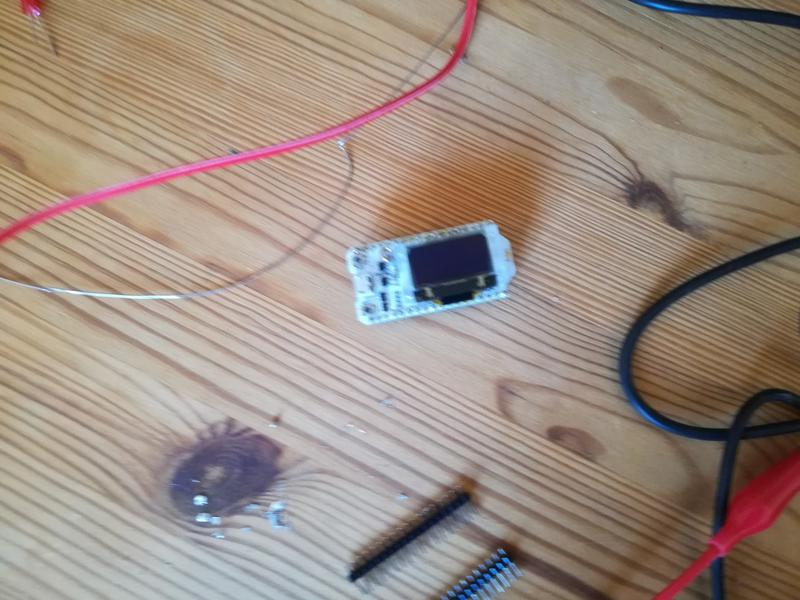Heltec_ESP32_Lora: (337, 217, 524, 330)
